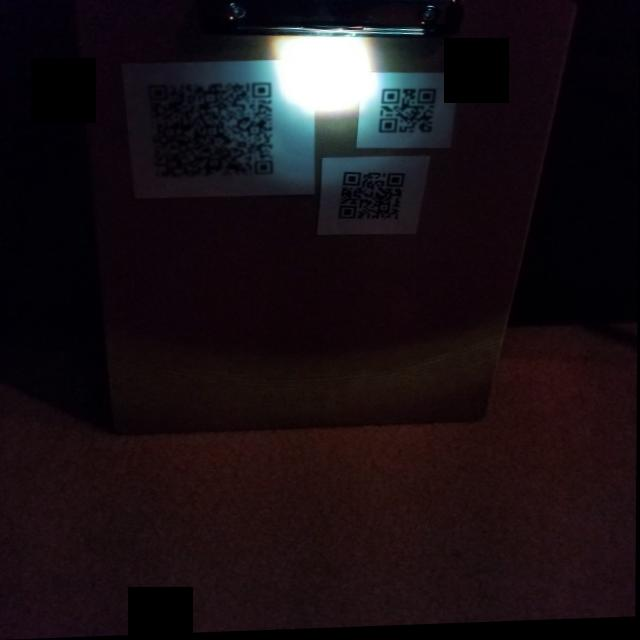QR_CODE: (129, 65, 286, 186), (331, 162, 419, 230), (371, 77, 458, 143)
